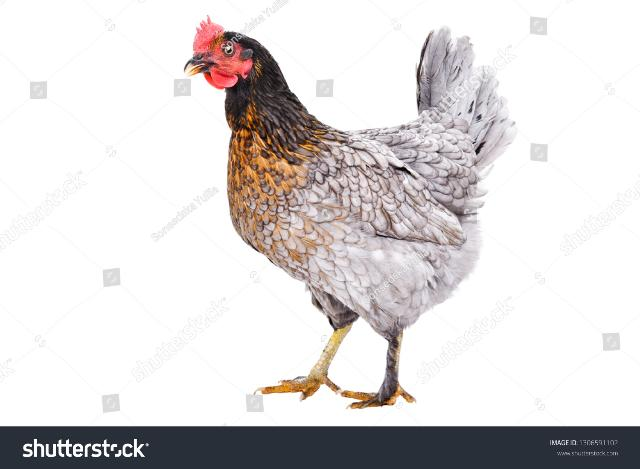Chicken: (183, 15, 516, 411)
